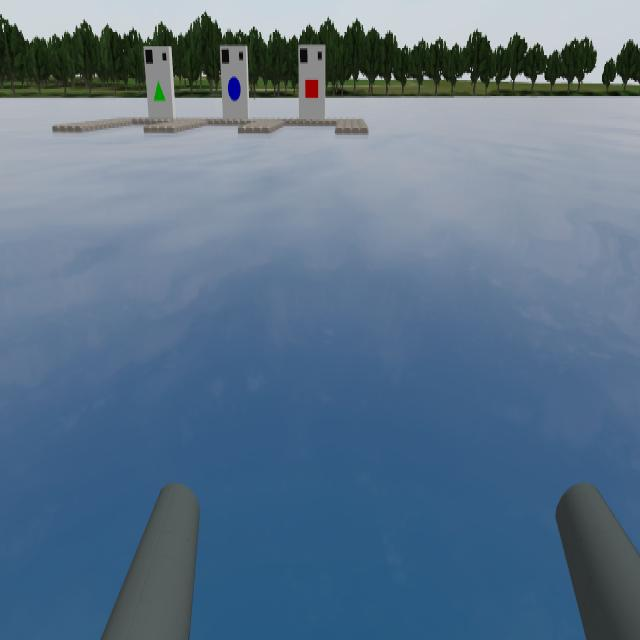dock: (146, 46, 174, 125), (221, 46, 248, 119), (300, 46, 327, 116)
